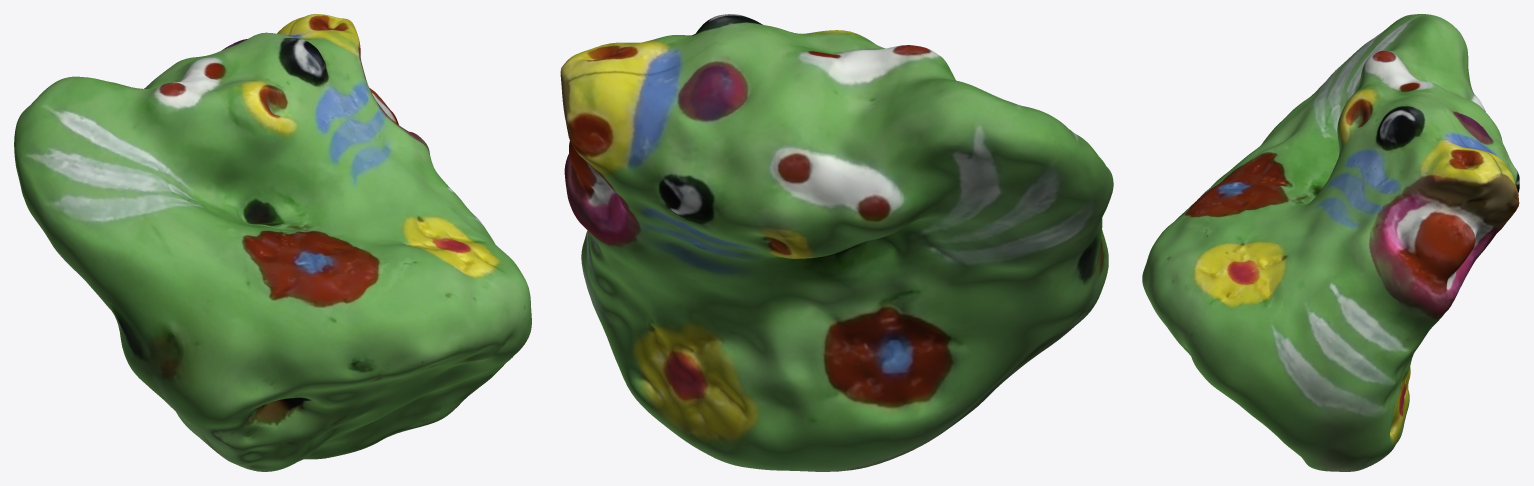
The picture shows the model from 3 angles, left to right: view 1: azimuth 30°, elevation 25°; view 2: azimuth 150°, elevation 25°; view 3: azimuth 270°, elevation 25°; orthographic projection. The views are drawn at different scales.
Bounding box in the file's own units: 0.2444 × 0.2078 × 0.2062.
1 material, 1 textured.
